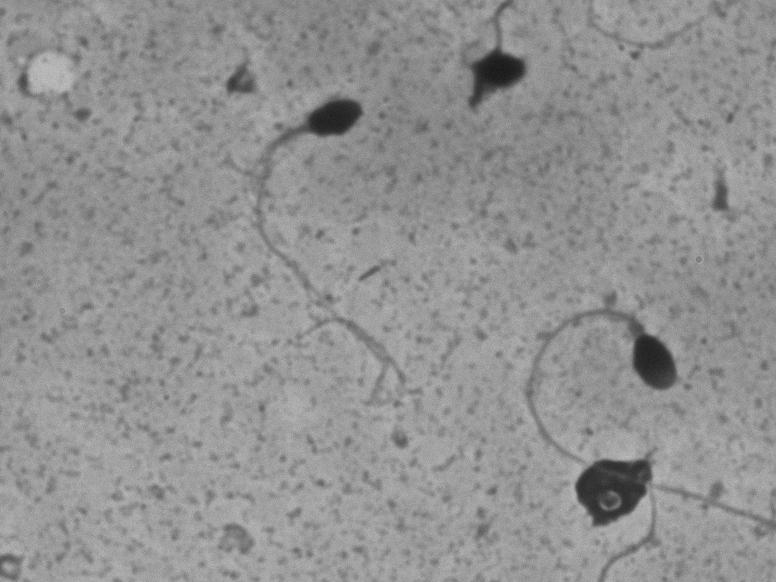Abnormal: (212, 85, 394, 299), (418, 9, 560, 138)
Normal: (504, 292, 775, 537)
